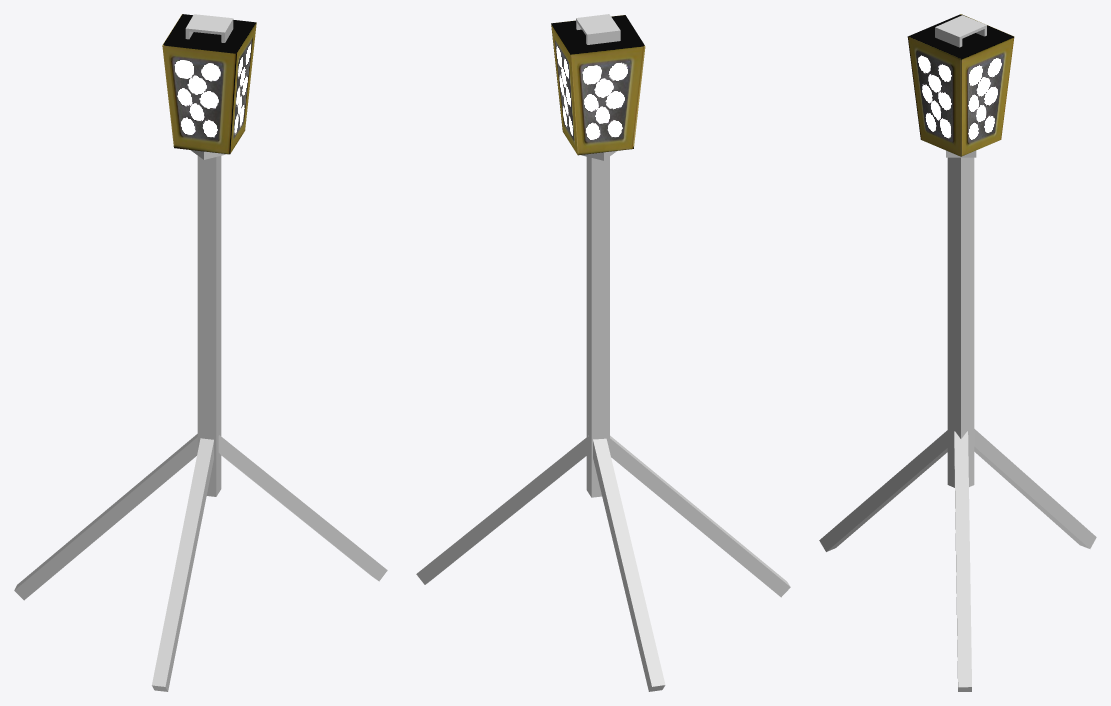
File: WorkLamp_WIP.fbx
3 renders of one model, left to right at view 1: azimuth 30°, elevation 25°; view 2: azimuth 150°, elevation 25°; view 3: azimuth 270°, elevation 25°, orthographic. The views are drawn at different scales.
Parts seen in each view (by area): view 1: WorkLampHead, WorkLampBody, WorkLampLegA, WorkLampLegB, WorkLampLegC, WorkLampHandle; view 2: WorkLampHead, WorkLampBody, WorkLampLegB, WorkLampLegA, WorkLampLegC, WorkLampHandle; view 3: WorkLampHead, WorkLampBody, WorkLampLegC, WorkLampLegA, WorkLampLegB, WorkLampHandle.
Part boxes in pixels (<box>): WorkLampHead: <box>162,14,256,154</box>; WorkLampBody: <box>197,156,221,496</box>; WorkLampLegA: <box>152,438,213,691</box>; WorkLampLegB: <box>14,434,197,600</box>; WorkLampLegC: <box>218,435,387,581</box>; WorkLampHandle: <box>185,14,233,42</box>; WorkLampHead: <box>551,15,645,155</box>; WorkLampBody: <box>586,156,609,497</box>; WorkLampLegB: <box>593,438,665,691</box>; WorkLampLegA: <box>610,435,790,597</box>; WorkLampLegC: <box>416,436,588,584</box>; WorkLampHandle: <box>576,14,620,44</box>; WorkLampHead: <box>907,14,1014,156</box>; WorkLampBody: <box>947,157,974,487</box>; WorkLampLegC: <box>954,431,971,691</box>; WorkLampLegA: <box>819,430,947,551</box>; WorkLampLegB: <box>974,429,1096,548</box>; WorkLampHandle: <box>935,15,986,47</box>.
Size of the model in its own units: 520 by 965 by 415.
